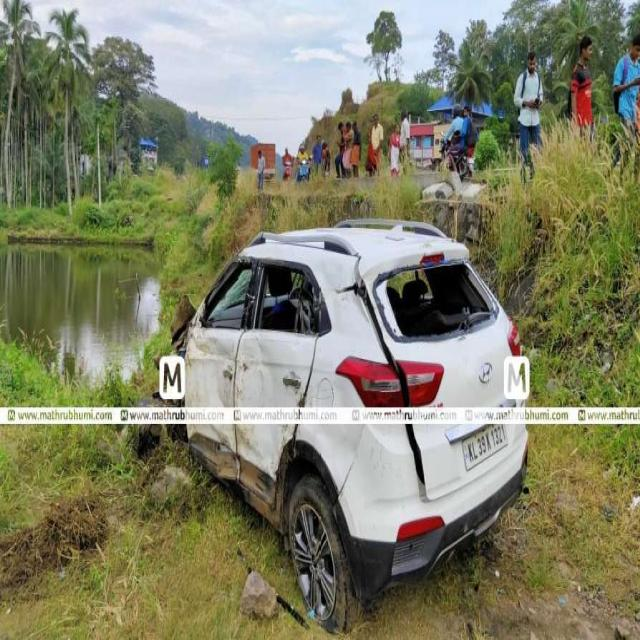accident: (114, 222, 540, 586)
